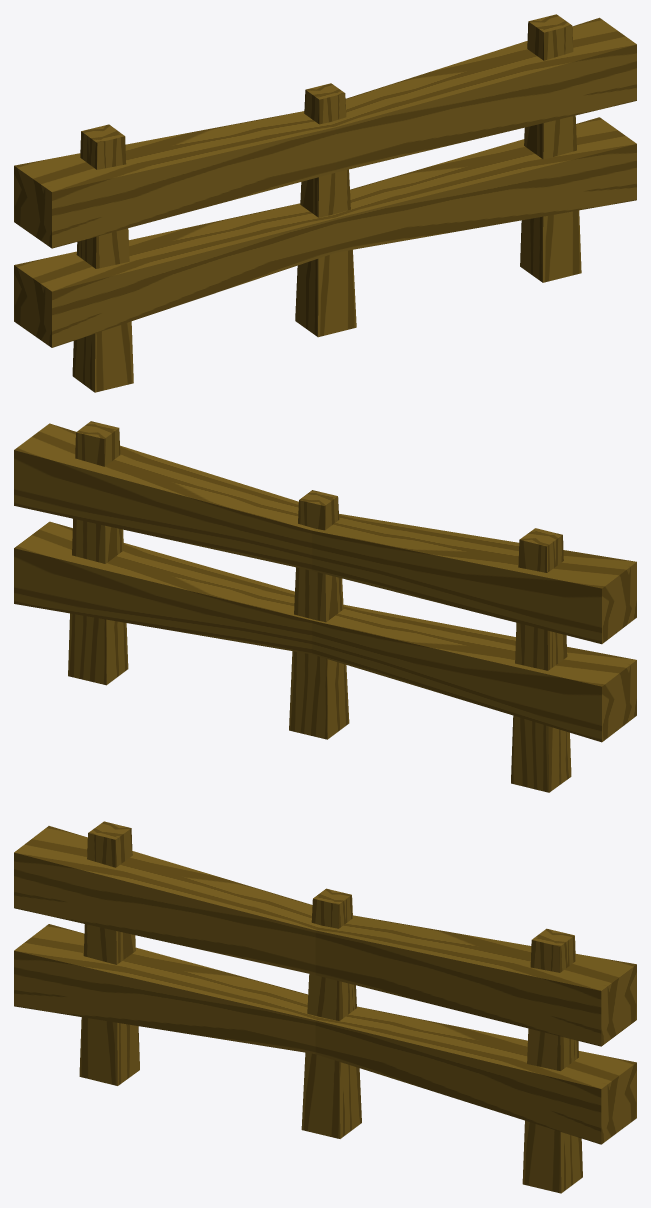
The model's file is Fence.fbx.
3 renders of one model, top to bottom at view 1: azimuth 30°, elevation 25°; view 2: azimuth 150°, elevation 25°; view 3: azimuth 330°, elevation 25°, orthographic.
Visible parts, largest first — view 1: Fence3; view 2: Fence3; view 3: Fence3.
Boxes of the visible parts, left/top/right/bottom form: Fence3: left=14, top=14, right=636, bottom=392; Fence3: left=14, top=421, right=636, bottom=792; Fence3: left=14, top=821, right=636, bottom=1193.
Size of the model in its own units: 187 by 74.38 by 22.92.
